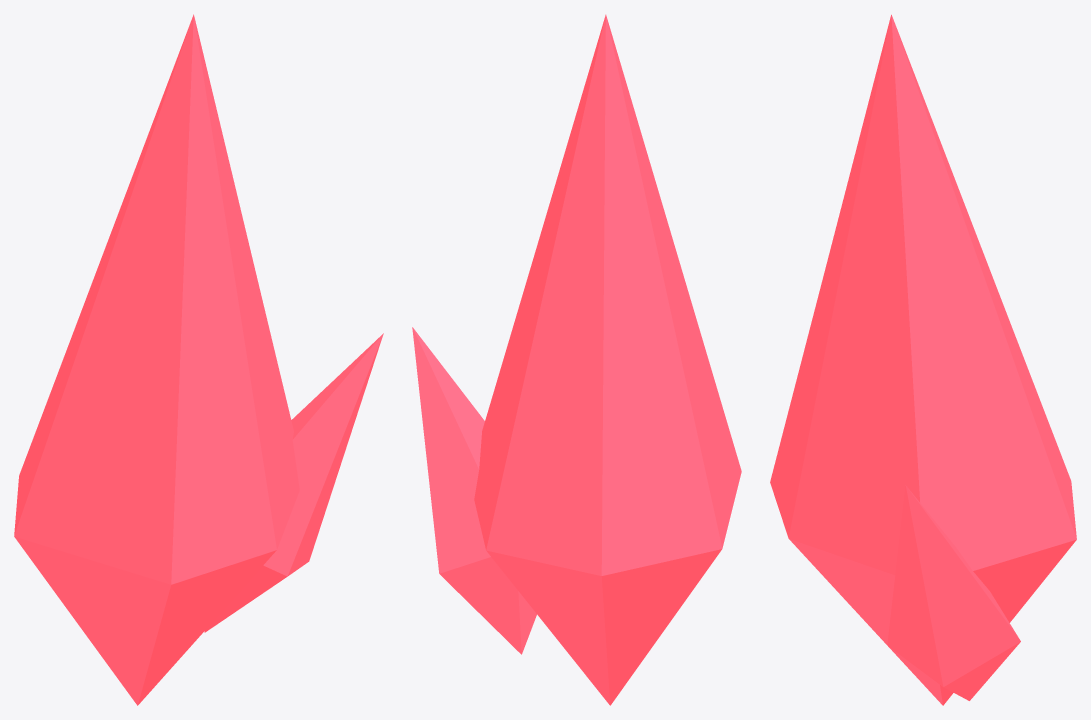
The model's file is soul_shard_0.glb.
3 views of the same model, side by side, from view 1: azimuth 30°, elevation 25°; view 2: azimuth 150°, elevation 25°; view 3: azimuth 270°, elevation 25° (orthographic). The views are drawn at different scales.
Visible parts, largest first — view 1: spin_mesh; view 2: spin_mesh; view 3: spin_mesh.
Boxes of the visible parts, bbox=[...] form: spin_mesh: bbox=[14, 14, 383, 705]; spin_mesh: bbox=[412, 14, 741, 705]; spin_mesh: bbox=[770, 14, 1076, 705].
Size of the model in its own units: 0.1762 by 0.34 by 0.1338.
